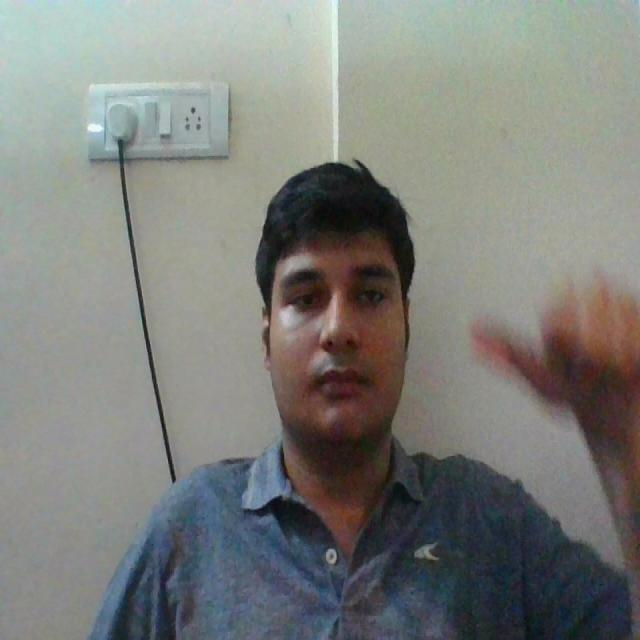Yes: (462, 254, 640, 464)
